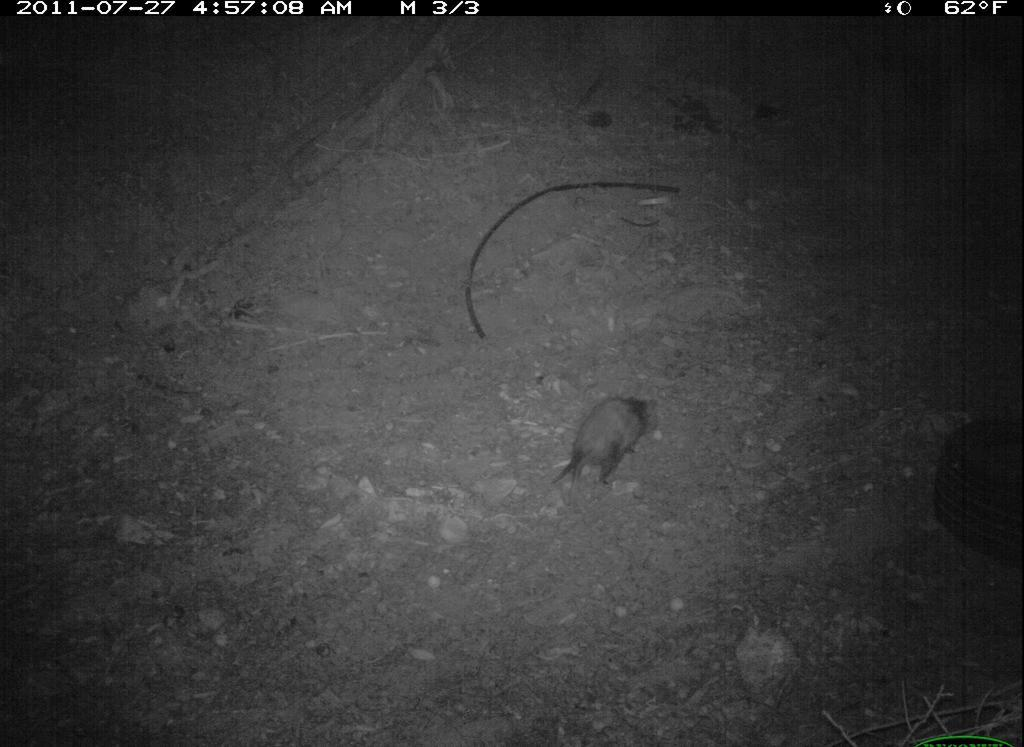opossum: (530, 377, 669, 525)
